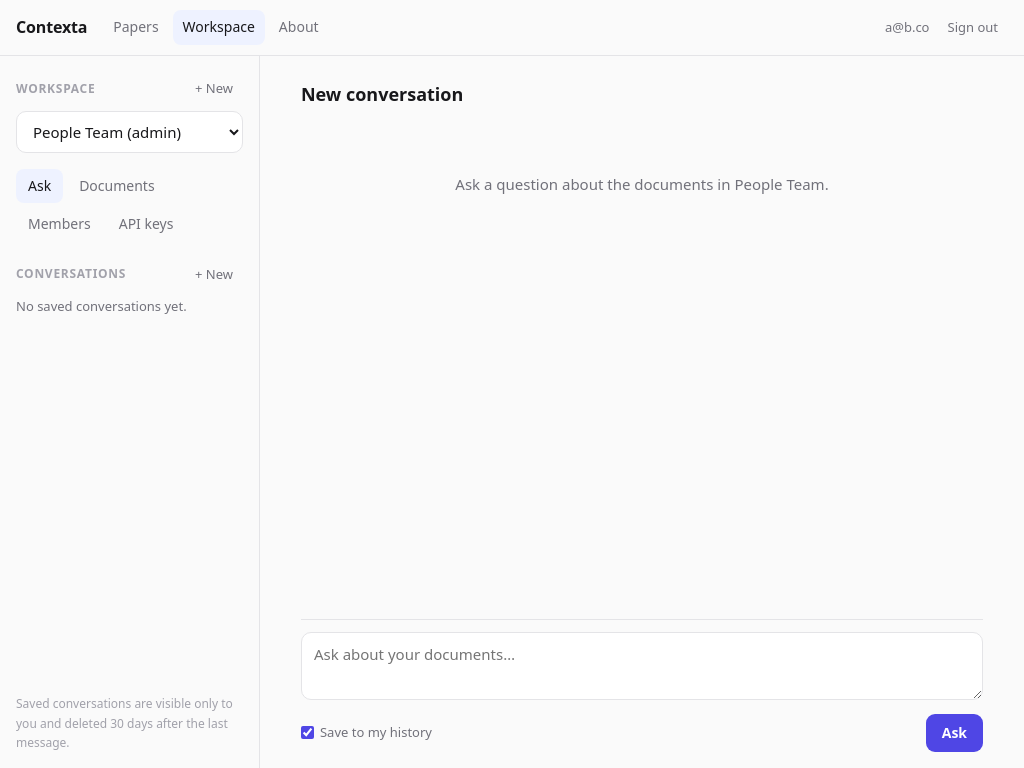
Scenario: saving a conversation keeps the thread on screen and lists it; follow-ups continue it
This screenshot has width=1024, height=768.
In the text box named "Your question": coordinates (642, 666) [301, 632, 983, 700], type "How many vacation days?"
Then press Enter
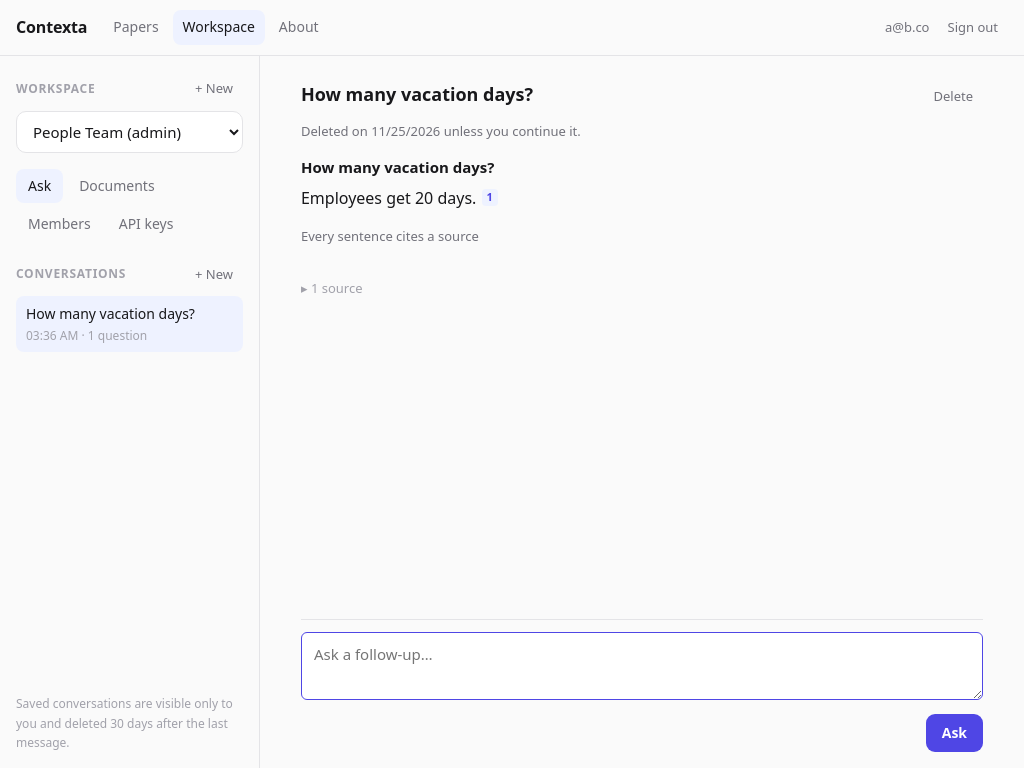
Now the text "Employees get 20 days." is shown, box [301, 187, 476, 209]
Now the text "Deleted on 11/25/2026 unless you continue it." is shown, box [301, 122, 581, 140]
In the text box with placeholder "Ask a follow-up…": coordinates (642, 666) [301, 632, 983, 700], type "Carry over?"
Then press Enter
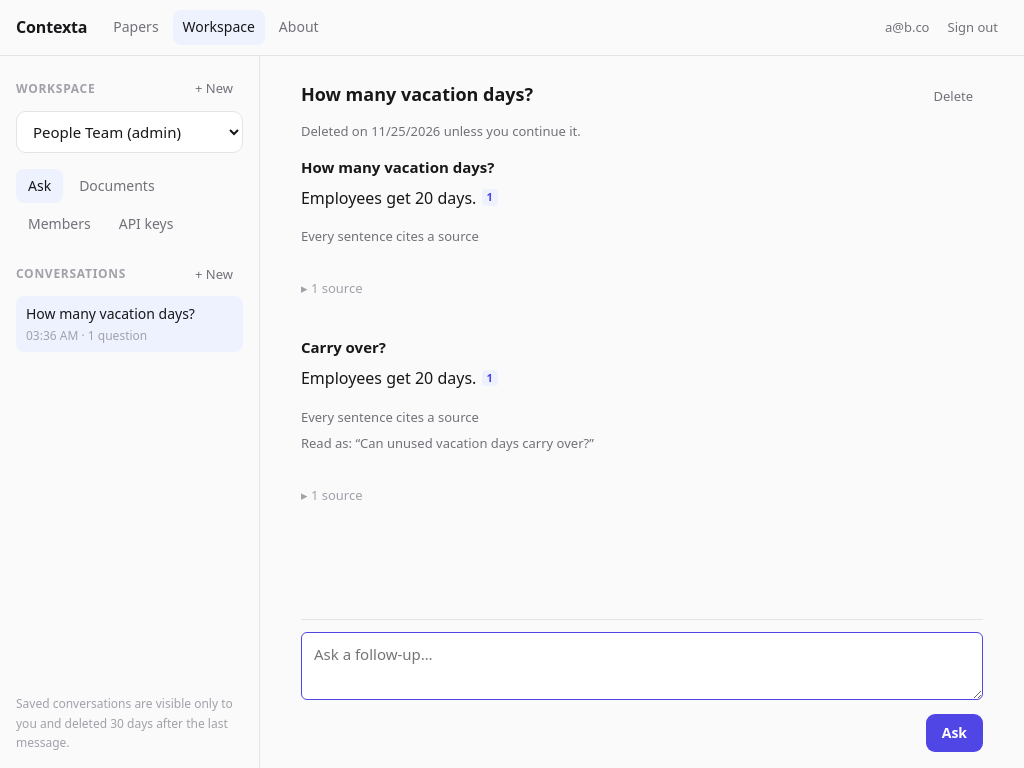
Now the text "Read as: “Can unused vacation days carry over?”" is shown, box [301, 434, 594, 452]
